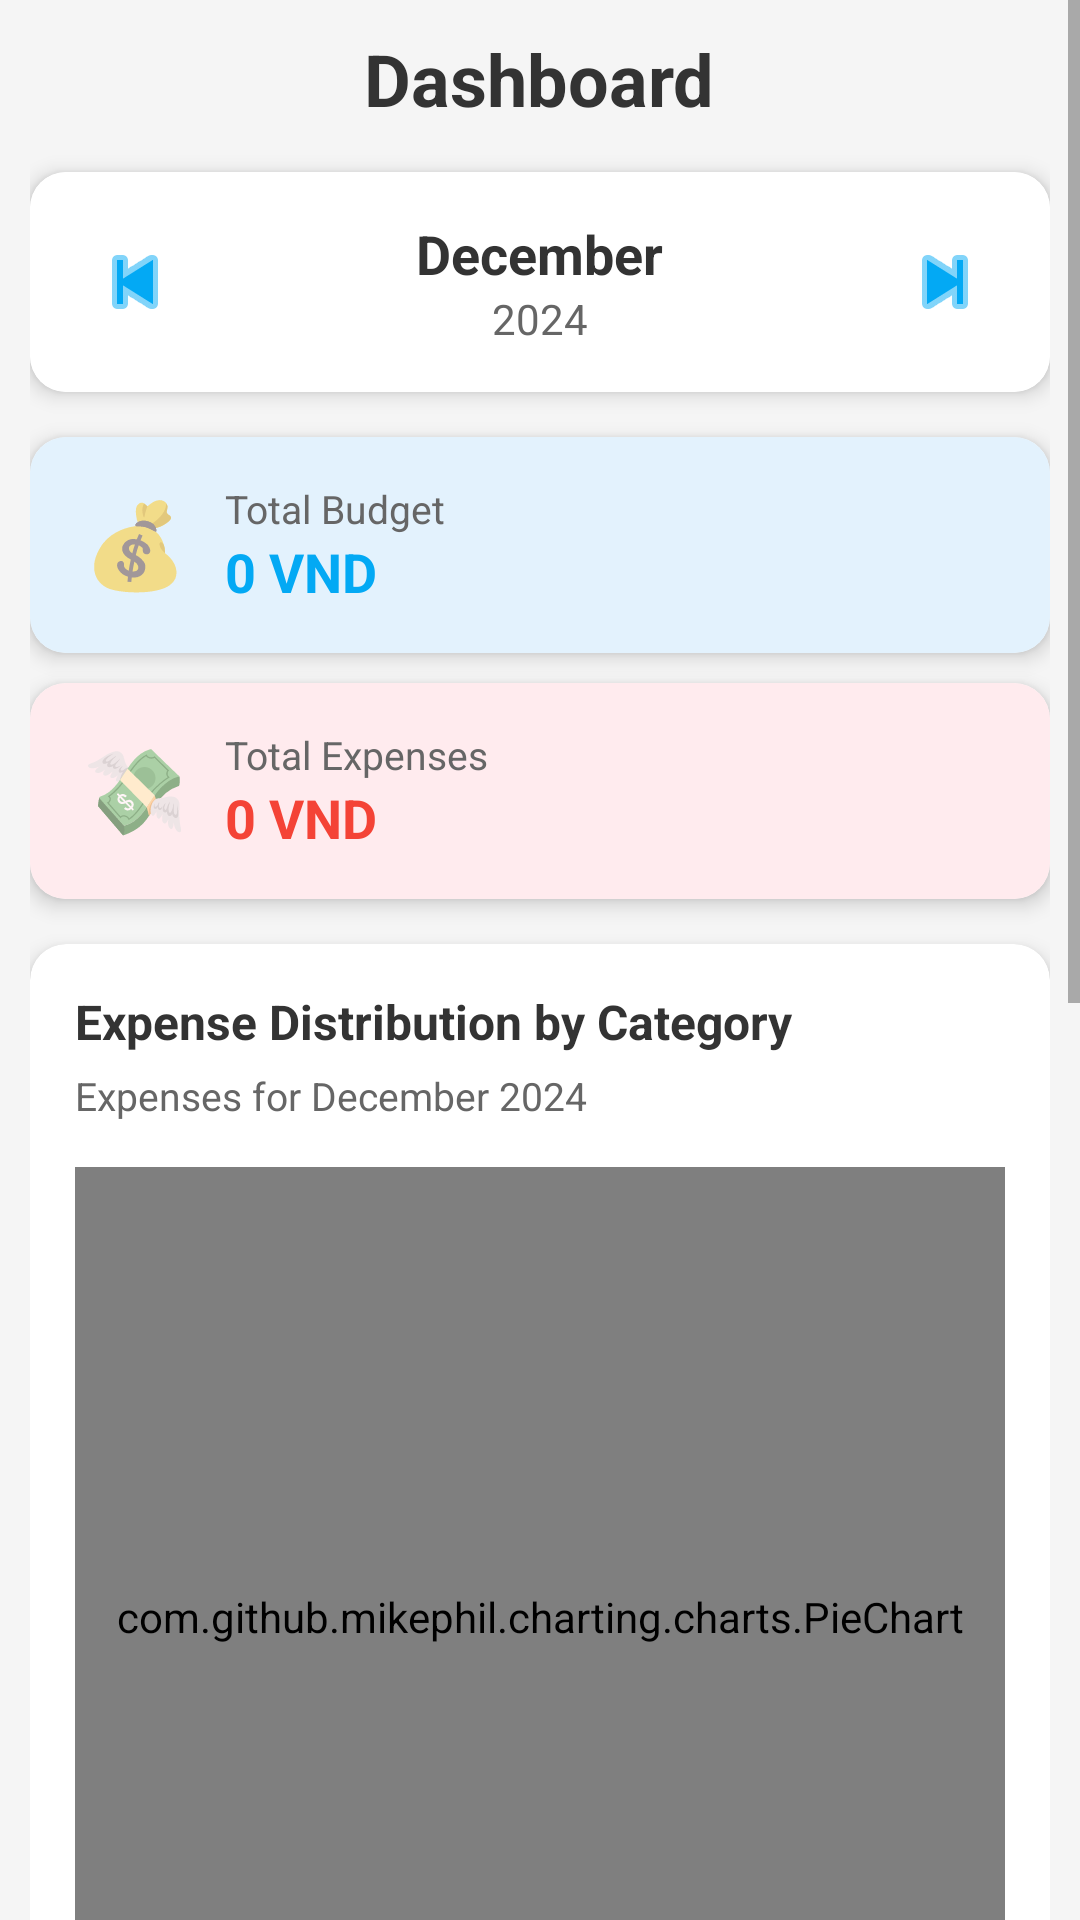

Screen size 1080px x 1920px. Icon name, then its center in pixels as (x=x, y=y):
Next Month: (x=945, y=282)
Previous Month: (x=135, y=282)
